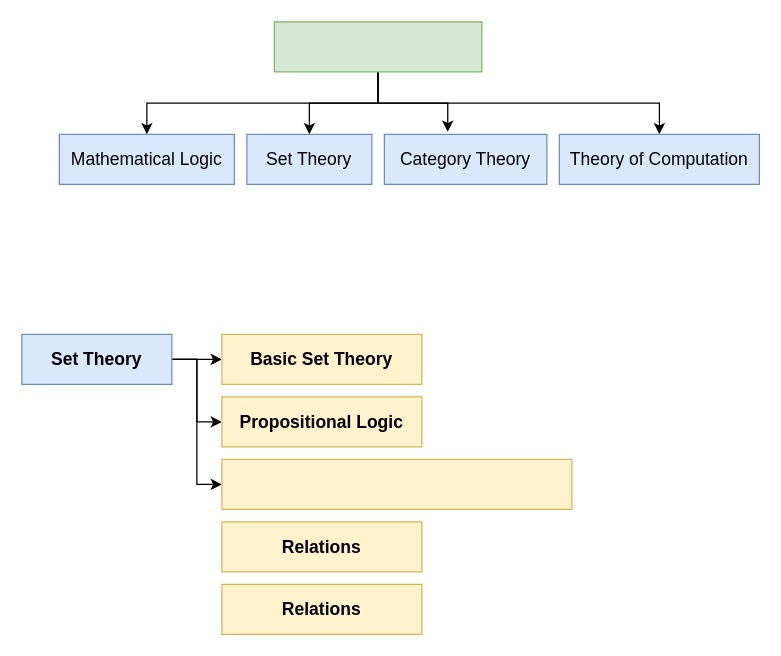
Image size: 781x656. Some labels were removed from this diagram. Here are the shapes that lost their labels. From the top down, the box of each, then its label:
(273, 21, 482, 72): Foundation Mathematic
(221, 458, 572, 509): Proof, Conjectures & Counterexample
